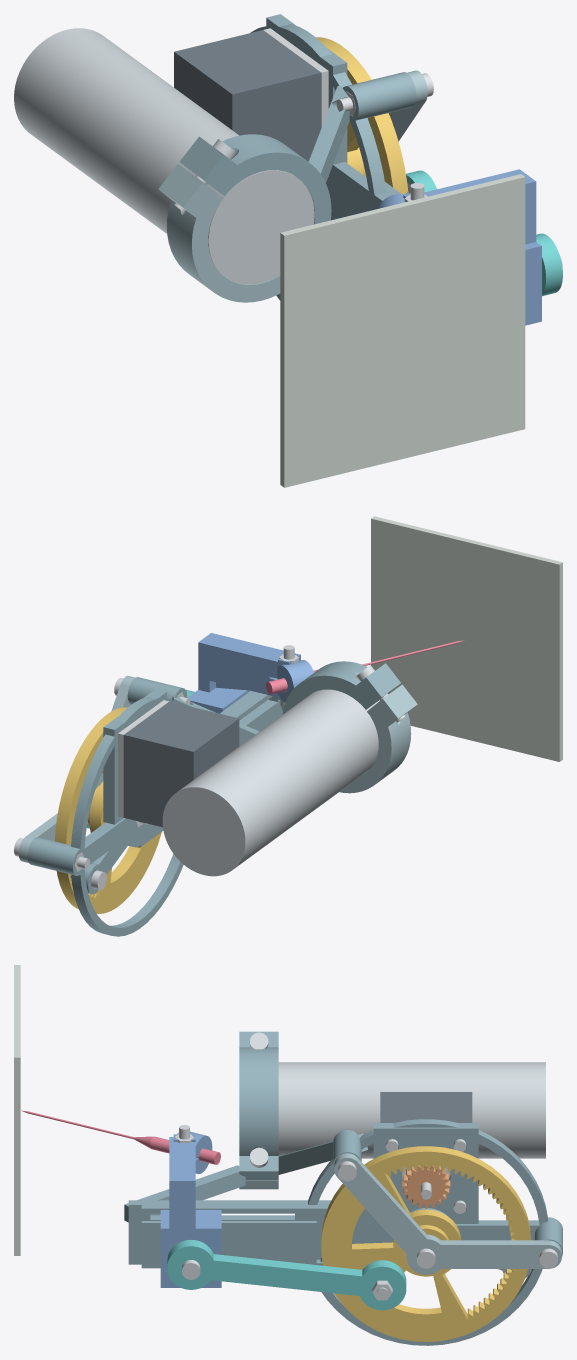
File: probe_stage_v2_assembly.glb
3 views of the same model, one above another, from view 1: azimuth 30°, elevation 25°; view 2: azimuth 150°, elevation 25°; view 3: azimuth 270°, elevation 25° (orthographic). The views are drawn at different scales.
Parts seen in each view (by area): view 1: =>[0:1:1:50], =>[0:1:1:48], =>[0:1:1:3], =>[0:1:1:27], =>[0:1:1:4], =>[0:1:1:6], =>[0:1:1:9], =>[0:1:1:8], =>[0:1:1:5], =>[0:1:1:28]; view 2: =>[0:1:1:50], =>[0:1:1:48], =>[0:1:1:3], =>[0:1:1:27], =>[0:1:1:9], =>[0:1:1:6], =>[0:1:1:4], =>[0:1:1:5], =>[0:1:1:28], =>[0:1:1:49]; view 3: =>[0:1:1:3], =>[0:1:1:48], =>[0:1:1:6], =>[0:1:1:8], =>[0:1:1:5], =>[0:1:1:9], =>[0:1:1:27], =>[0:1:1:50], =>[0:1:1:7], =>[0:1:1:49].
Part boxes in pixels (x1,y1,x2,y2): =>[0:1:1:50]: [280, 174, 525, 487]; =>[0:1:1:48]: [14, 28, 314, 284]; =>[0:1:1:3]: [179, 14, 416, 300]; =>[0:1:1:27]: [174, 30, 321, 161]; =>[0:1:1:4]: [158, 164, 280, 302]; =>[0:1:1:6]: [316, 37, 408, 193]; =>[0:1:1:9]: [377, 169, 541, 325]; =>[0:1:1:8]: [406, 170, 562, 296]; =>[0:1:1:5]: [388, 70, 427, 141]; =>[0:1:1:28]: [263, 28, 328, 176]; =>[0:1:1:50]: [371, 516, 562, 761]; =>[0:1:1:48]: [162, 689, 379, 876]; =>[0:1:1:3]: [27, 661, 400, 936]; =>[0:1:1:27]: [123, 701, 239, 827]; =>[0:1:1:9]: [187, 633, 314, 713]; =>[0:1:1:6]: [55, 707, 161, 913]; =>[0:1:1:4]: [339, 684, 417, 793]; =>[0:1:1:5]: [18, 675, 134, 862]; =>[0:1:1:28]: [118, 700, 168, 817]; =>[0:1:1:49]: [266, 640, 464, 694]; =>[0:1:1:3]: [124, 1031, 562, 1345]; =>[0:1:1:48]: [278, 1062, 545, 1158]; =>[0:1:1:6]: [321, 1146, 530, 1341]; =>[0:1:1:8]: [167, 1239, 406, 1310]; =>[0:1:1:5]: [334, 1153, 561, 1274]; =>[0:1:1:9]: [160, 1131, 221, 1287]; =>[0:1:1:27]: [380, 1092, 472, 1122]; =>[0:1:1:50]: [14, 965, 20, 1255]; =>[0:1:1:7]: [402, 1165, 450, 1208]; =>[0:1:1:49]: [21, 1110, 220, 1164].
Bounding box in the file's own units: 0.1612 × 0.136 × 0.2508.
